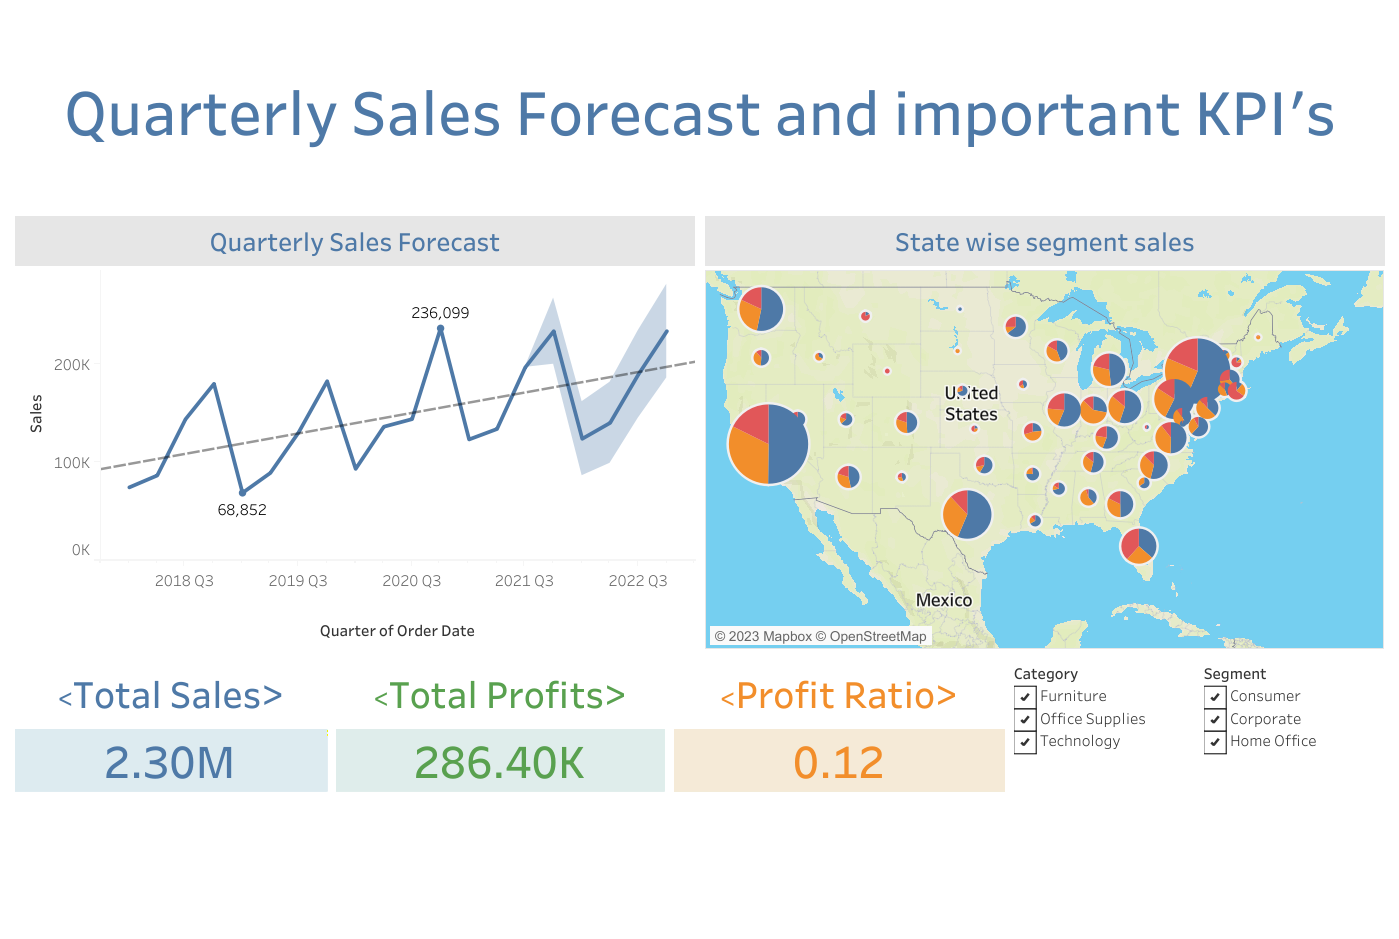

What the dashboard file says about the page in this screenshot:
{"tool":"tableau","page":{"name":"Dashboard 1","canvas":[1000,1000],"units":"permille","ordinal":0},"visuals":[{"type":"text","box":[7.1,9.9,985.7,214.4]},{"type":"worksheet","title":"Quarterly Sales Forecast","mark":"Automatic","rows":["Sales"],"cols":["Order Date"],"box":[7.1,224.3,492.8,472.8]},{"type":"worksheet","title":"Map","mark":"Pie","box":[499.9,224.3,492.9,472.8]},{"type":"worksheet","title":"KPI-1","mark":"Automatic","box":[7.1,697.1,229.5,293]},{"type":"worksheet","title":"KPI-2","mark":"Automatic","box":[236.6,697.1,241.1,293]},{"type":"worksheet","title":"KPI-3","mark":"Automatic","box":[477.7,697.1,242.8,293]},{"type":"filter","title":"Quarterly Sales Forecast","param":"[federated.086uw9s1s63j8412ostq813k9bm0].[none:Category:nk]","box":[720.5,697.1,136.2,293]},{"type":"filter","title":"Quarterly Sales Forecast","param":"[federated.086uw9s1s63j8412ostq813k9bm0].[none:Segment:nk]","box":[856.7,697.1,136.2,293]}]}

Visuals, with their boxes on the dashboard's canvas, which has no fixed pixel size, in thousandths of its width and height (x1, y1, x2, y2). These are canvas units, not pixel positions in the 1399x939 screenshot, which may show the page scaled, cropped or inside an application window:
text: left=7, top=10, right=993, bottom=224
"Quarterly Sales Forecast" worksheet: left=7, top=224, right=500, bottom=697
"Map" worksheet (Pie marks): left=500, top=224, right=993, bottom=697
"KPI-1" worksheet: left=7, top=697, right=237, bottom=990
"KPI-2" worksheet: left=237, top=697, right=478, bottom=990
"KPI-3" worksheet: left=478, top=697, right=720, bottom=990
"Quarterly Sales Forecast" filter: left=720, top=697, right=857, bottom=990
"Quarterly Sales Forecast" filter: left=857, top=697, right=993, bottom=990
